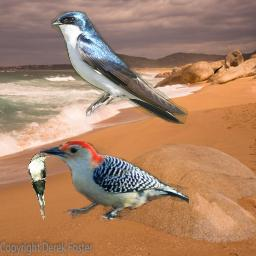Cuckoo: (28, 153, 49, 220)
Swallow: (51, 11, 188, 124)
Woodpecker: (40, 141, 189, 222)
